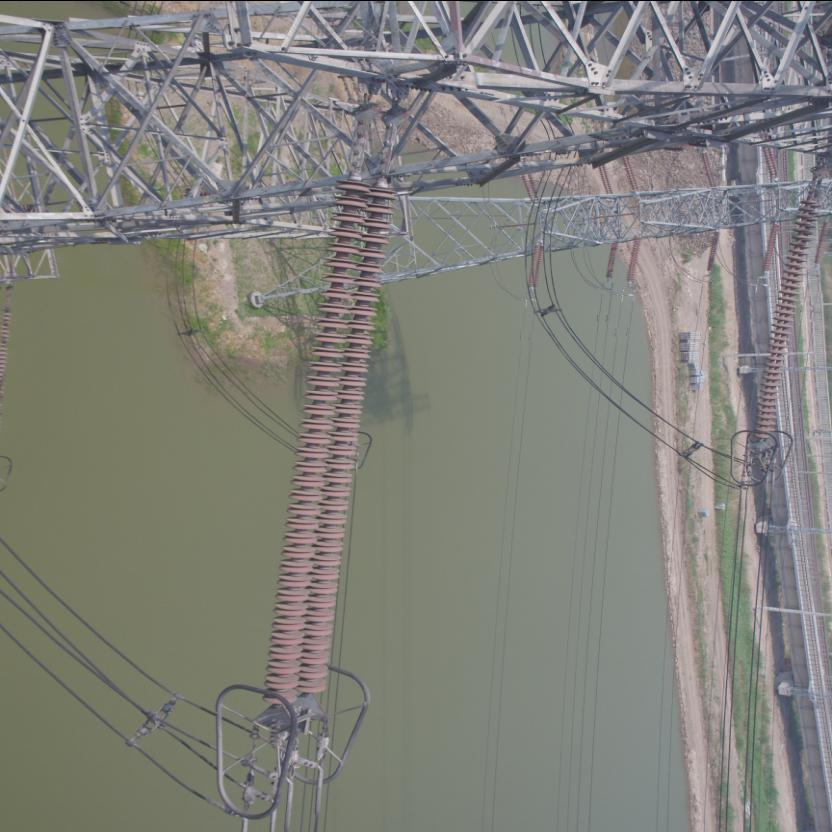insulator: (260, 154, 402, 718), (754, 186, 824, 444)
